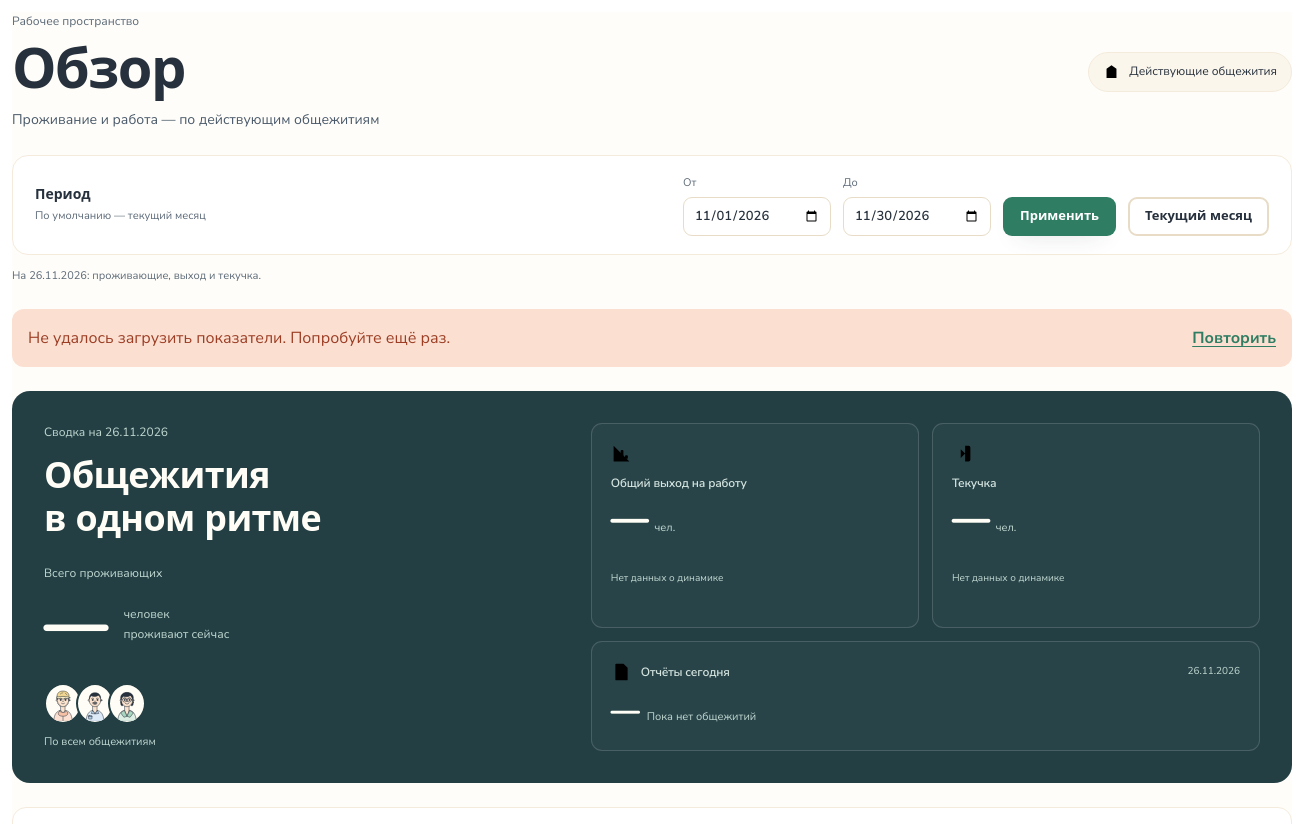
Test: дашборд › позволяет повторить загрузку после ошибки
Expected: the message shows "Не удалось загрузить показатели", x1=28 y1=327 x2=450 y2=349
Click the button "Повторить". click: (1234, 338)
box: x1=1192 y1=325 x2=1276 y2=351
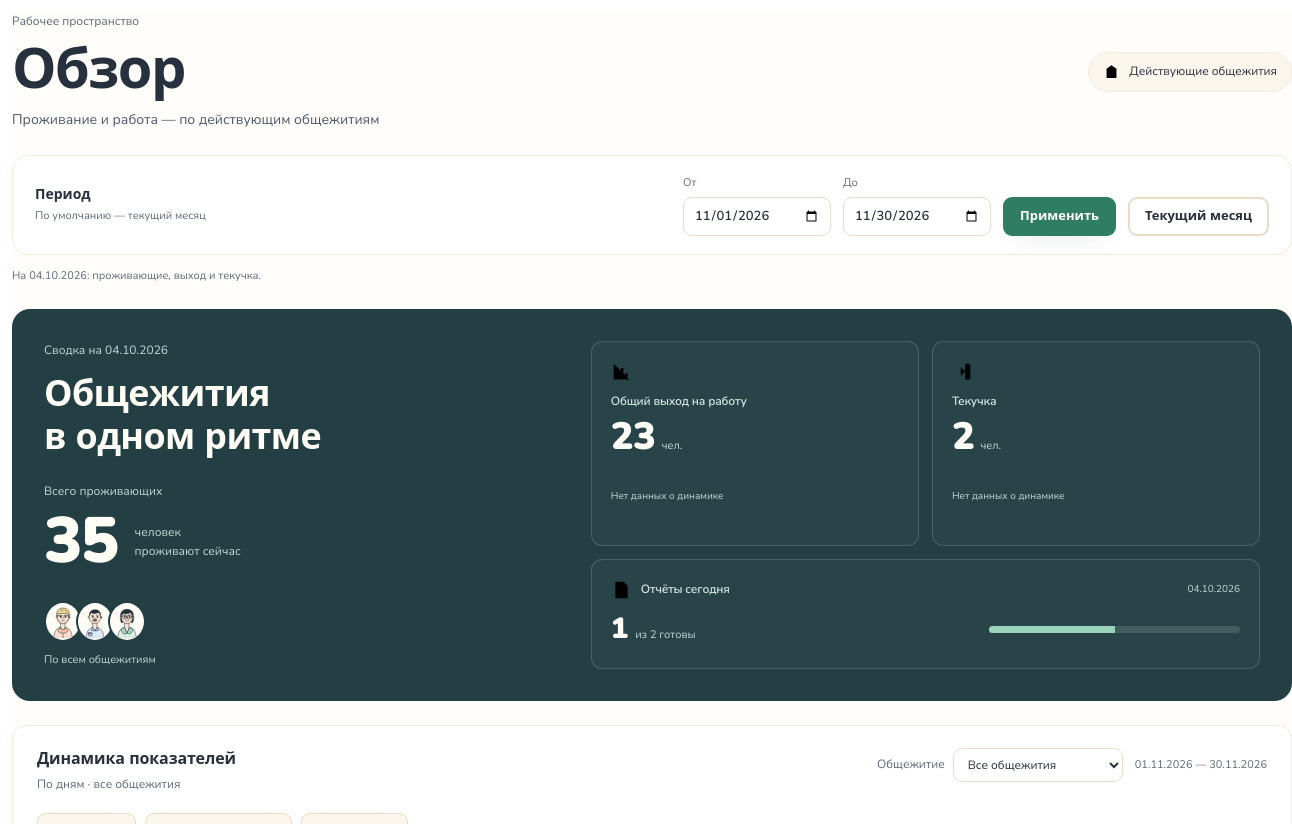
Expected: the text with test id "dashboard-total-residents" reads "35", x1=44 y1=497 x2=118 y2=585
